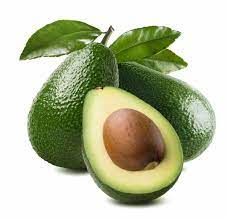avocado: (83, 86, 184, 202)
